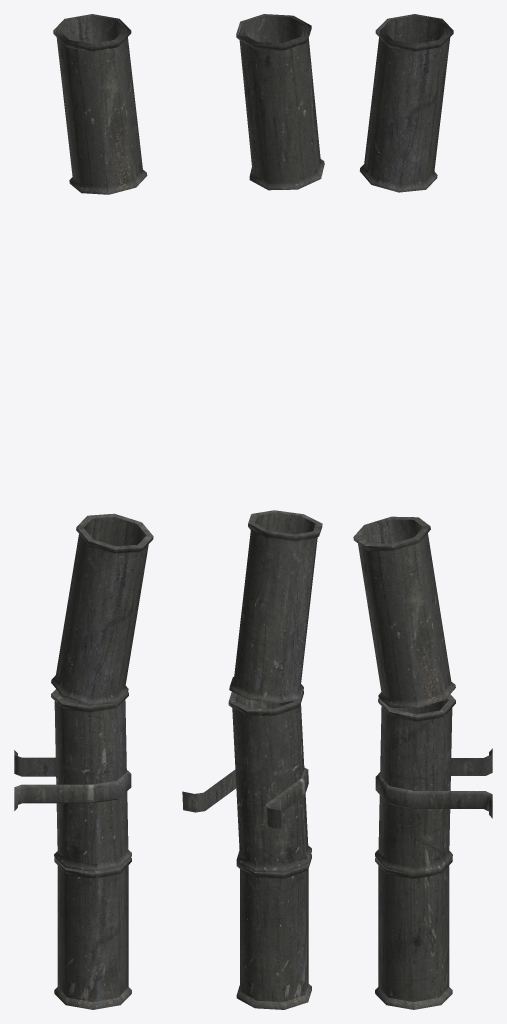
Rendered from SM_Corridor_Pipe_Set_Gray_A_damage.fbx.
The picture shows the model from 3 angles, left to right: view 1: azimuth 90°, elevation 25°; view 2: azimuth 150°, elevation 25°; view 3: azimuth 270°, elevation 25°; orthographic projection.
Visible parts, largest first — view 1: SM_Corridor_Pipe_Set_Gray_A_damage; view 2: SM_Corridor_Pipe_Set_Gray_A_damage; view 3: SM_Corridor_Pipe_Set_Gray_A_damage.
Boxes of the visible parts, <box> form: SM_Corridor_Pipe_Set_Gray_A_damage: <box>14,14,153,1009</box>; SM_Corridor_Pipe_Set_Gray_A_damage: <box>182,14,324,1009</box>; SM_Corridor_Pipe_Set_Gray_A_damage: <box>353,14,492,1009</box>.
Size of the model in its own units: 32.23 by 300 by 39.33.
